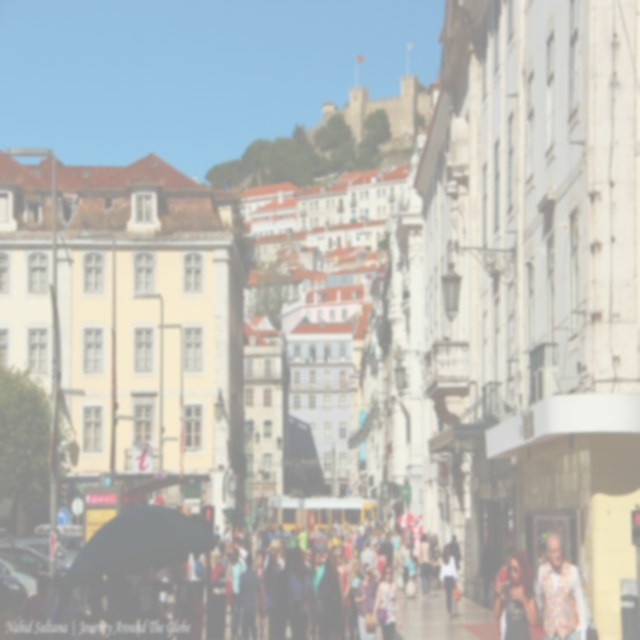pessoa: (1, 562, 205, 640), (534, 530, 588, 640), (492, 550, 538, 639), (493, 544, 536, 639), (317, 553, 345, 639), (271, 550, 298, 639), (372, 563, 402, 640), (354, 560, 382, 640), (222, 546, 245, 640), (238, 552, 262, 640), (288, 556, 312, 640), (263, 546, 282, 640), (306, 547, 324, 640), (439, 543, 461, 619), (346, 556, 365, 639), (187, 551, 207, 625), (252, 552, 266, 639), (396, 538, 416, 596), (417, 532, 432, 600), (479, 536, 492, 609), (212, 542, 230, 594), (447, 534, 462, 592), (334, 546, 350, 598), (263, 536, 284, 574), (380, 531, 395, 583), (359, 536, 377, 578), (232, 534, 249, 572), (337, 544, 352, 576), (293, 546, 309, 576), (376, 542, 387, 584), (537, 525, 549, 563), (405, 524, 415, 564), (390, 530, 400, 569), (211, 533, 221, 567), (431, 532, 439, 574), (354, 530, 365, 560), (242, 527, 254, 554), (320, 526, 330, 558), (303, 546, 315, 572), (328, 530, 342, 552), (276, 540, 286, 570), (298, 526, 308, 556), (342, 532, 352, 562), (256, 530, 268, 554), (426, 530, 434, 560), (362, 531, 374, 551), (362, 532, 374, 552), (242, 527, 251, 552), (288, 528, 298, 550), (252, 531, 258, 567), (269, 512, 287, 524), (316, 526, 324, 552), (224, 540, 233, 562), (371, 540, 379, 564), (343, 552, 352, 573), (214, 525, 222, 548), (274, 524, 284, 542), (370, 528, 378, 550), (320, 548, 330, 565), (347, 528, 354, 552), (342, 518, 348, 542), (379, 526, 386, 546), (252, 514, 260, 531), (352, 528, 358, 550), (358, 522, 366, 536), (225, 526, 231, 544), (376, 522, 382, 540), (372, 528, 379, 542), (352, 520, 358, 536), (364, 518, 370, 534), (339, 529, 345, 544), (237, 528, 244, 540), (264, 526, 270, 540), (366, 522, 373, 534), (400, 528, 404, 548), (329, 544, 337, 554), (268, 528, 274, 541), (383, 522, 389, 534), (240, 528, 246, 540), (370, 518, 376, 530), (334, 518, 339, 532), (263, 508, 267, 525), (234, 526, 239, 538), (331, 526, 336, 538), (366, 529, 372, 539), (278, 524, 284, 534), (388, 527, 394, 536), (222, 532, 226, 544), (358, 518, 364, 526), (366, 514, 372, 521), (272, 528, 276, 538), (368, 526, 372, 536), (258, 538, 262, 548), (392, 525, 397, 532), (330, 525, 333, 536), (300, 548, 304, 556), (282, 538, 286, 546), (406, 134, 411, 140), (338, 525, 342, 532), (356, 522, 360, 528), (320, 527, 324, 533), (224, 528, 227, 534), (336, 530, 338, 536), (262, 531, 264, 536), (392, 138, 394, 142), (398, 137, 399, 141), (402, 138, 404, 140), (394, 139, 394, 142)
